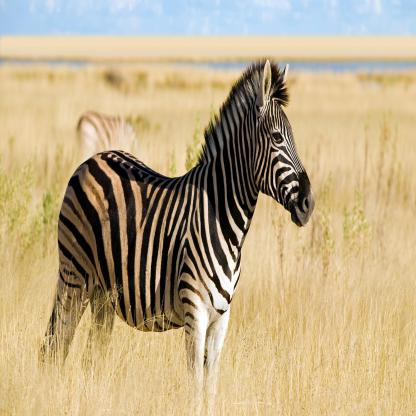zebra: (9, 62, 331, 416)
